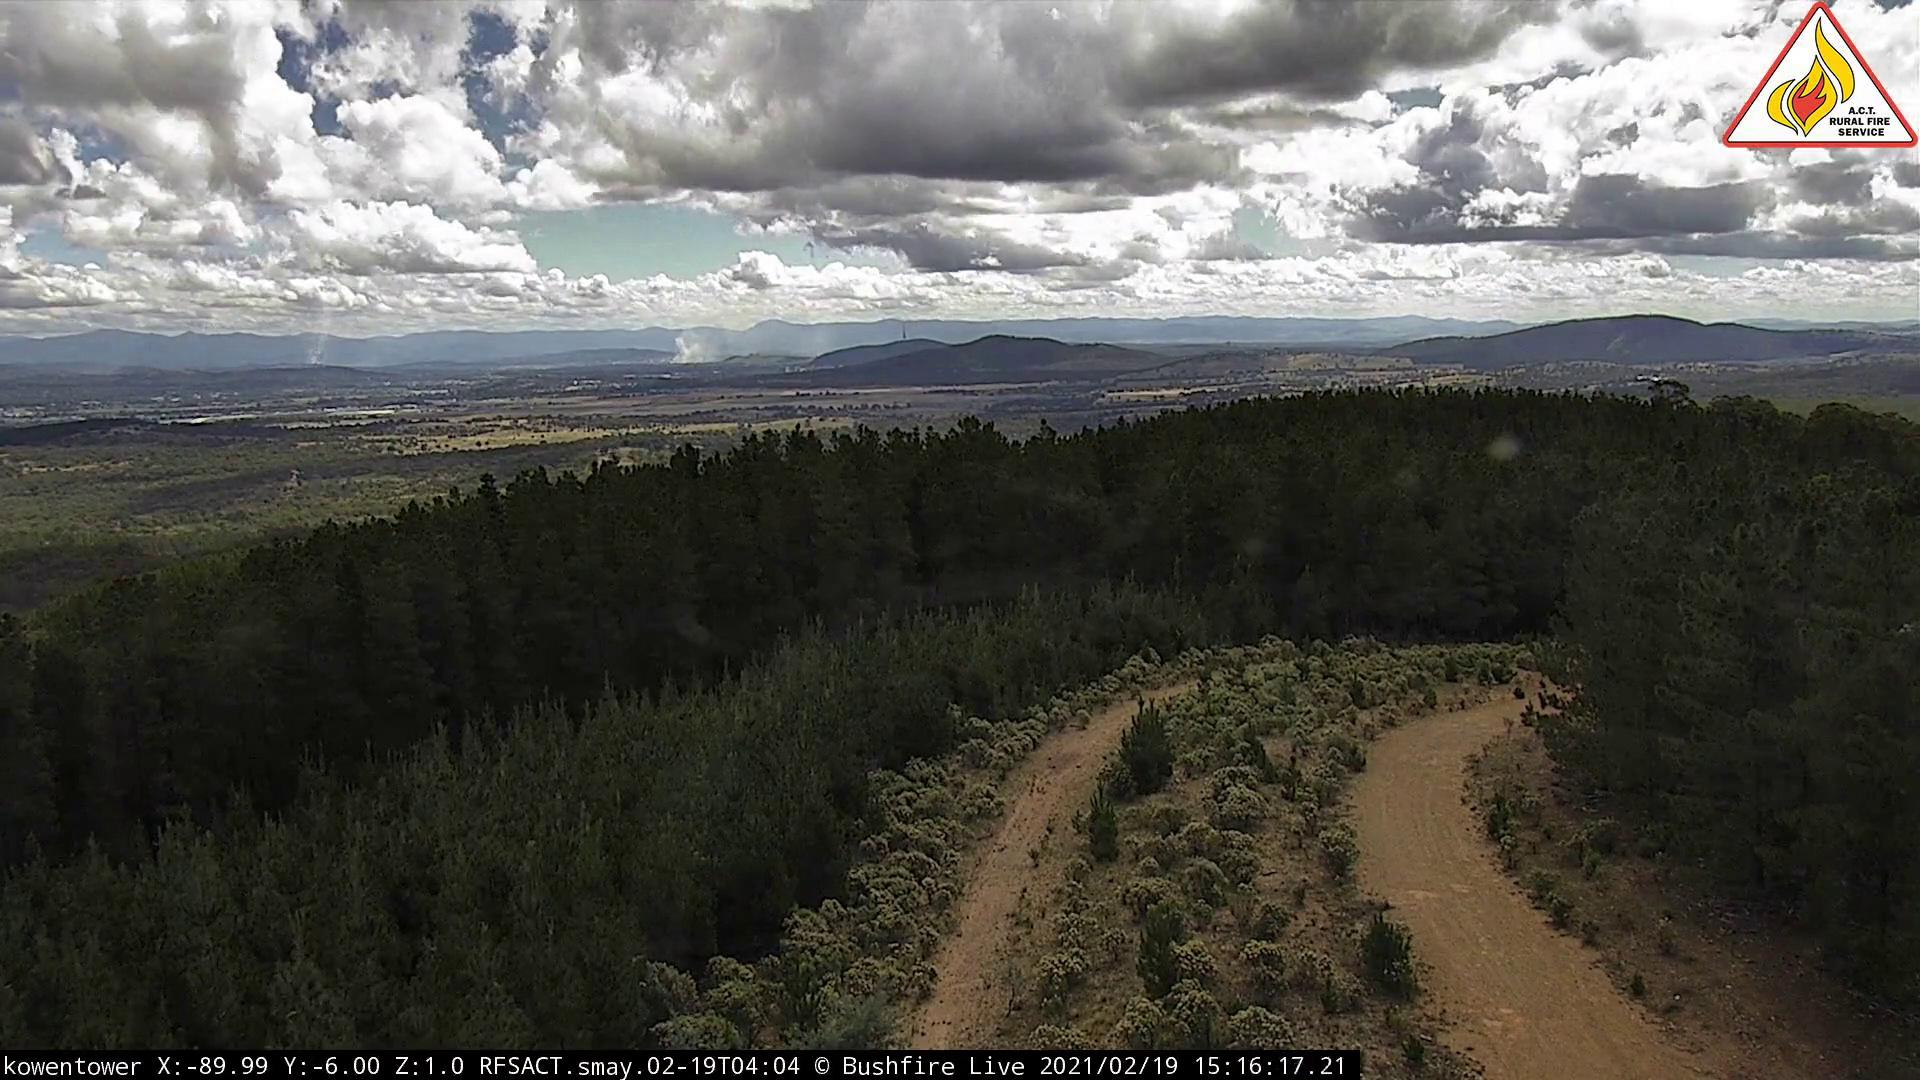Smoke: (663, 318, 749, 371), (297, 301, 352, 375)
